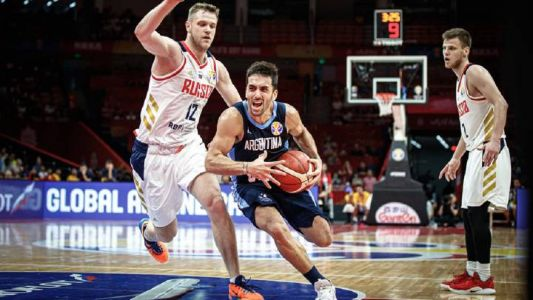baloncesto: (272, 150, 315, 193)
